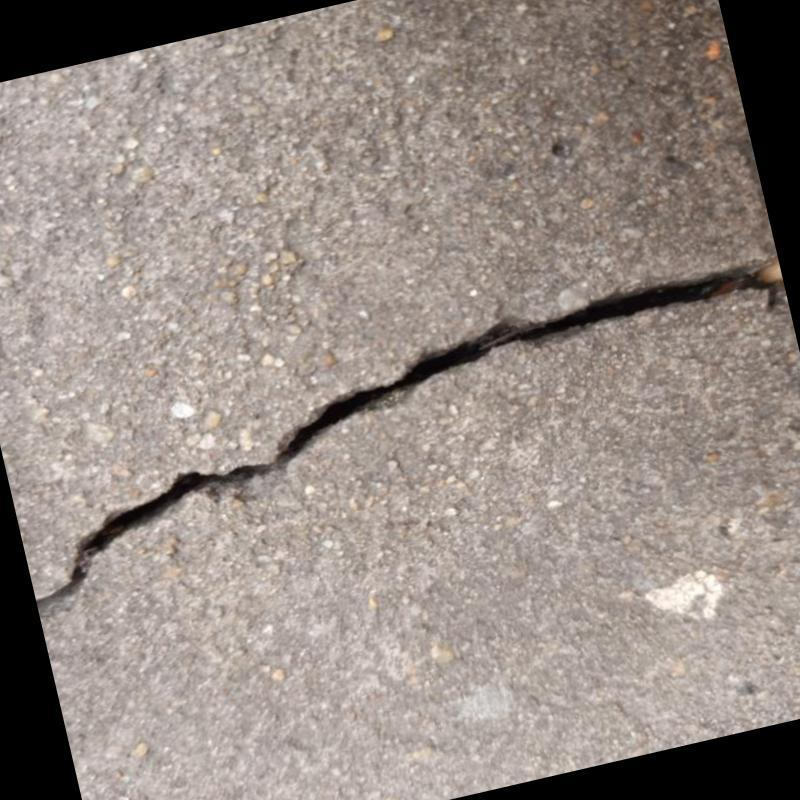crack: (36, 260, 786, 617)
